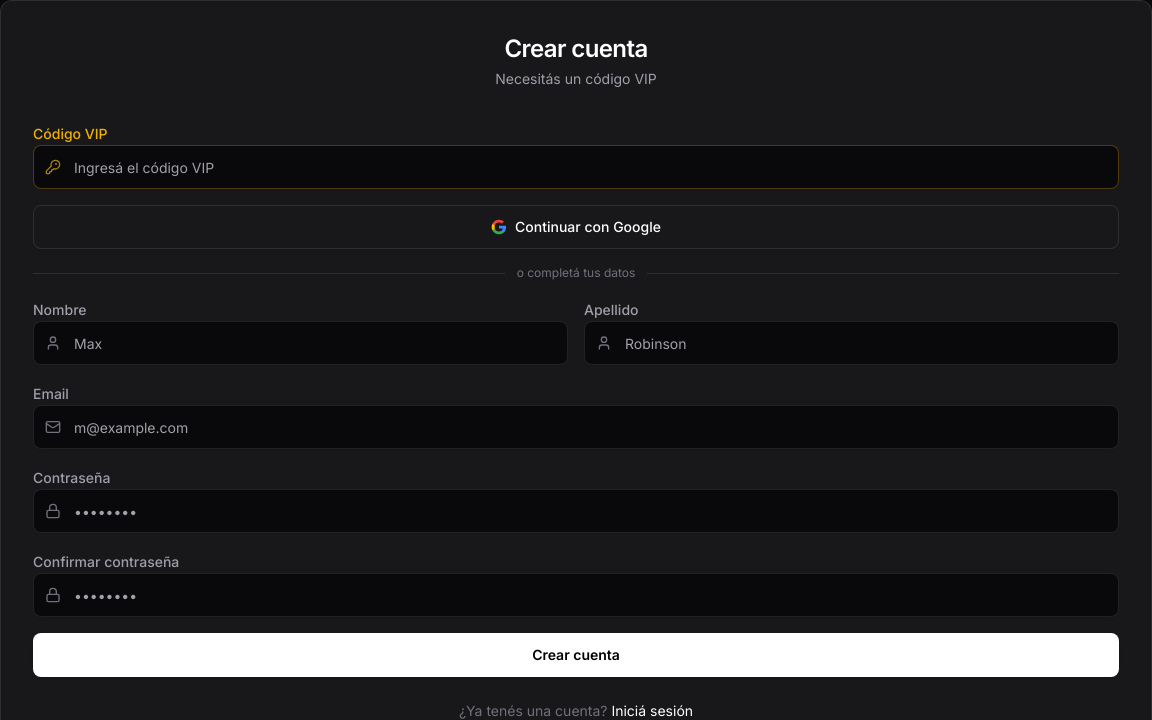
Test case: SignUpForm › rejects a wrong VIP code without creating the account
The width and height of the screenshot is (1152, 720).
Type "Ana" into the field labelled "Nombre" at (300, 343), box [33,321,568,365]
Type "Pérez" into the field labelled "Apellido" at (852, 343), box [584,321,1119,365]
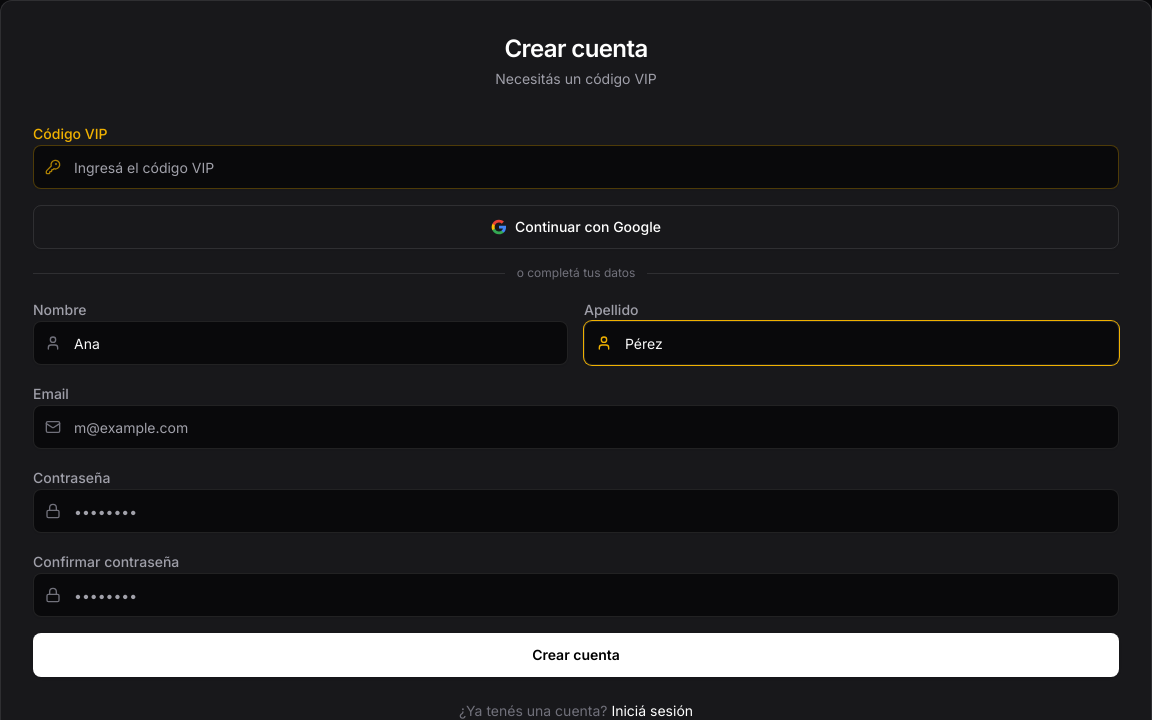
Type "ana@example.com" into the field labelled "Email" at (576, 427), box [33,405,1119,449]
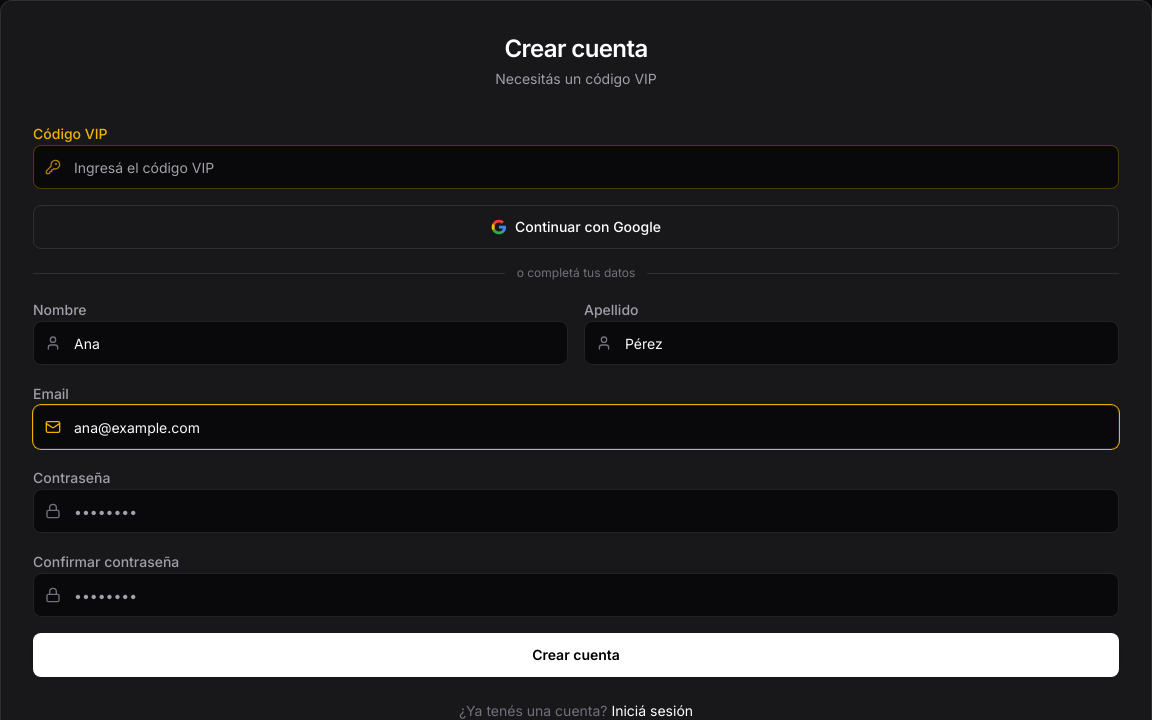
Type "supersecret" into the password field labelled "Contraseña" at (576, 511), box [33,489,1119,533]
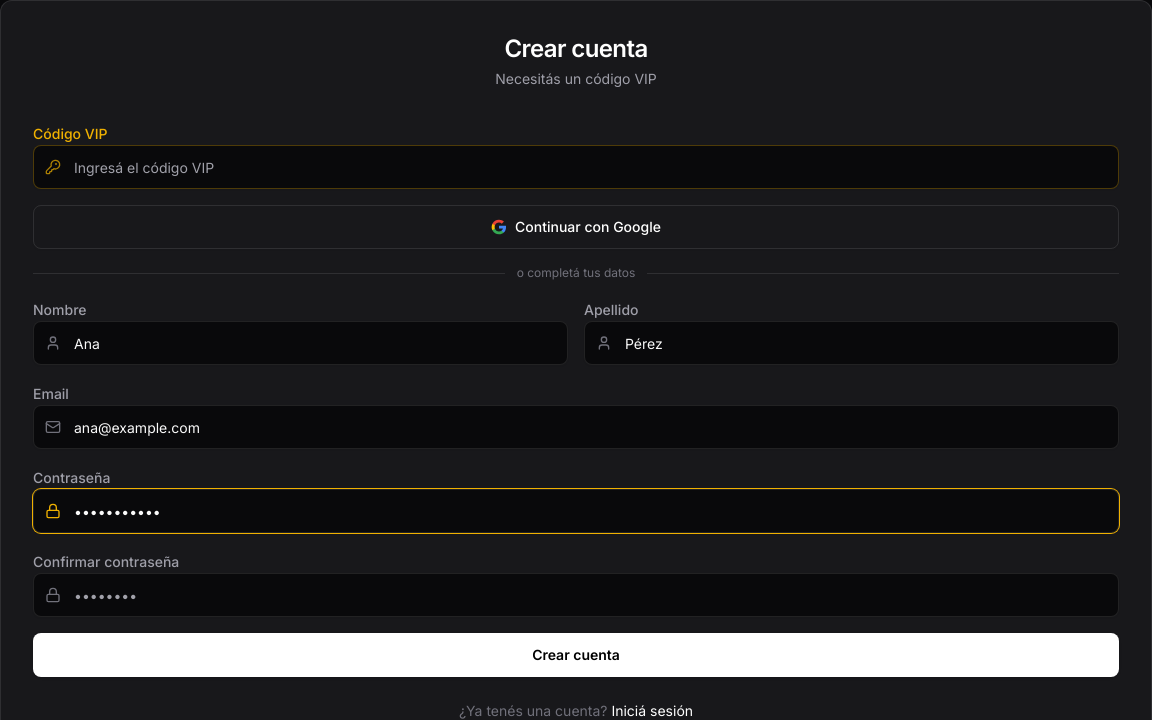
Type "supersecret" into the password field labelled "Confirmar contraseña" at (576, 595), box [33,573,1119,617]
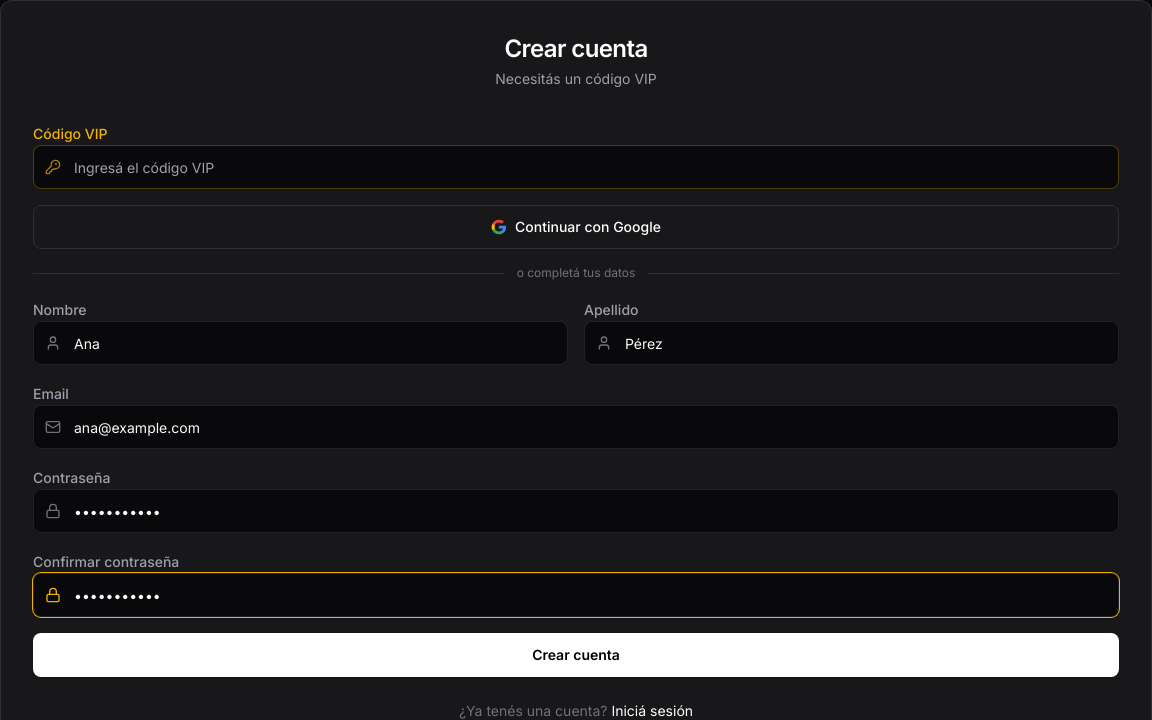
Type "vip" into the password field labelled "Código VIP" at (576, 167), box [33,145,1119,189]
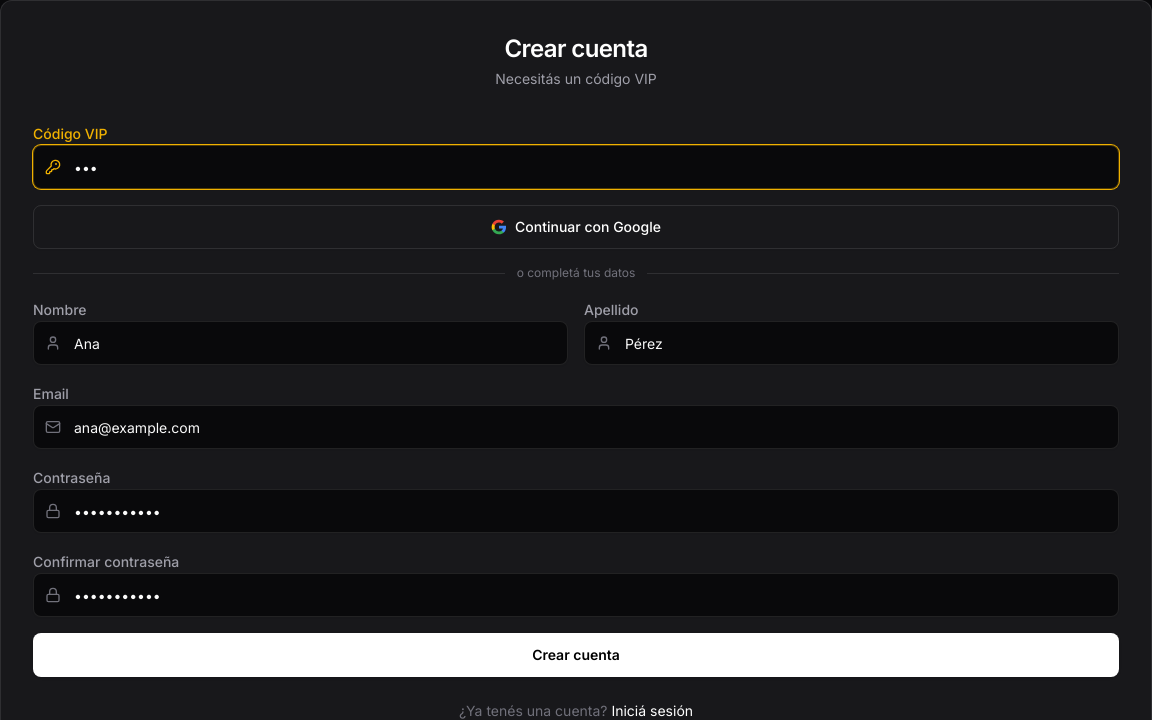
Click the button "Crear cuenta" at (576, 655), box [33,633,1119,677]
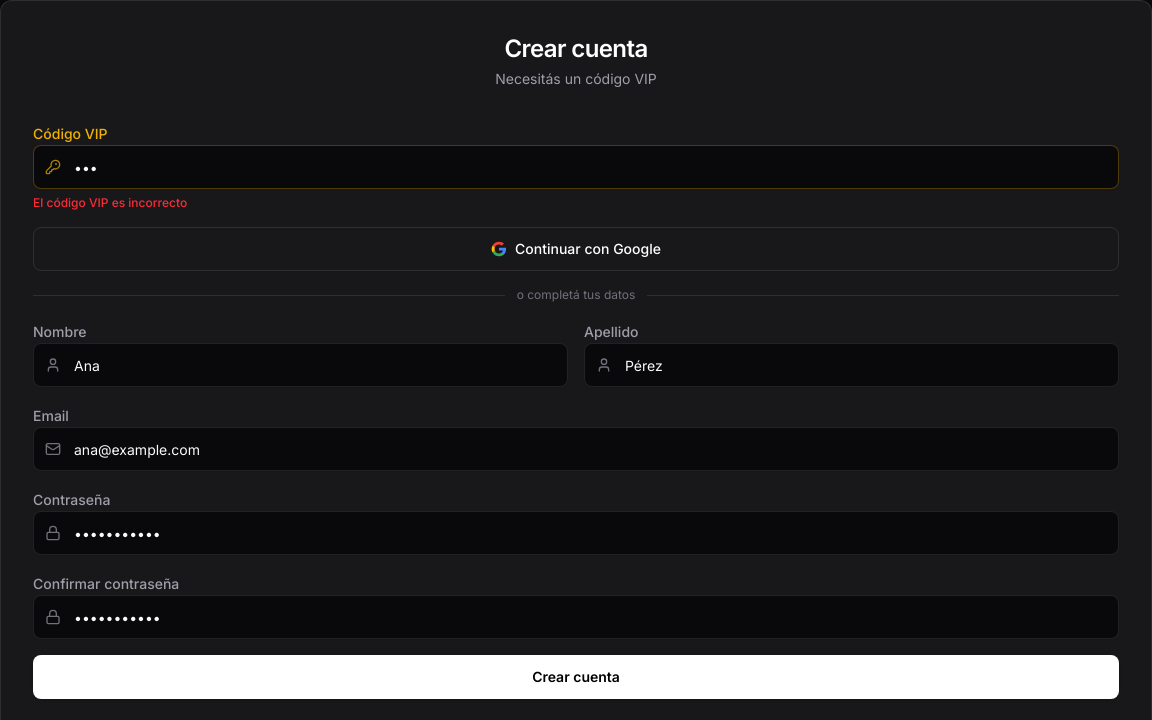
Expected: the text "El código VIP es incorrecto" is shown, [33,195,187,210]
